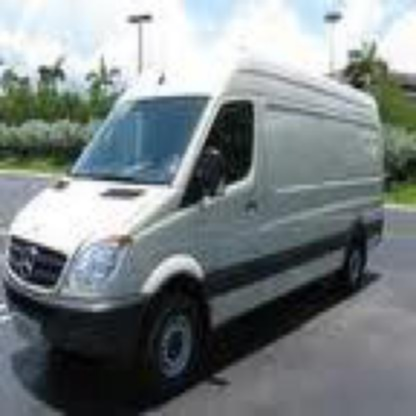Vehicle: (3, 46, 396, 362)
